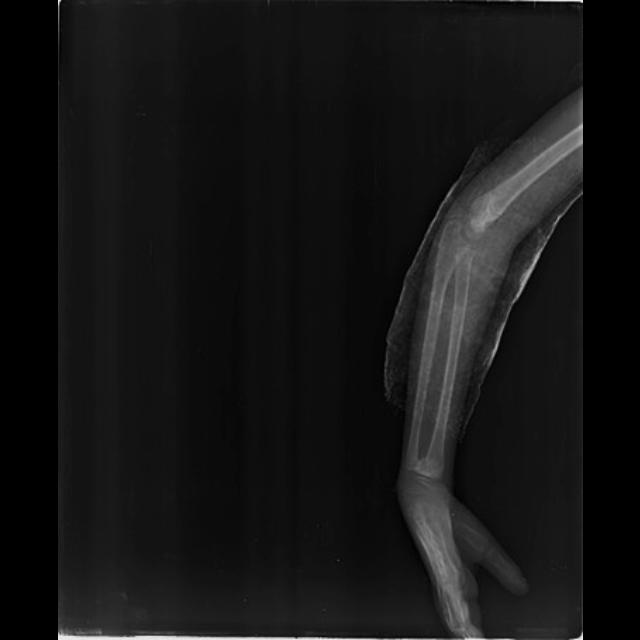Fracture: (409, 456, 445, 484), (481, 188, 507, 223)
